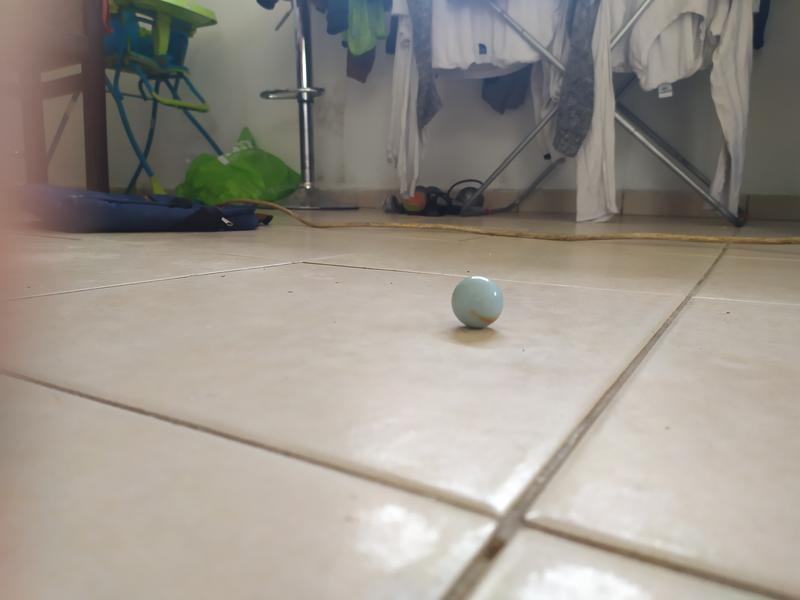Warning: (449, 273, 506, 331)
